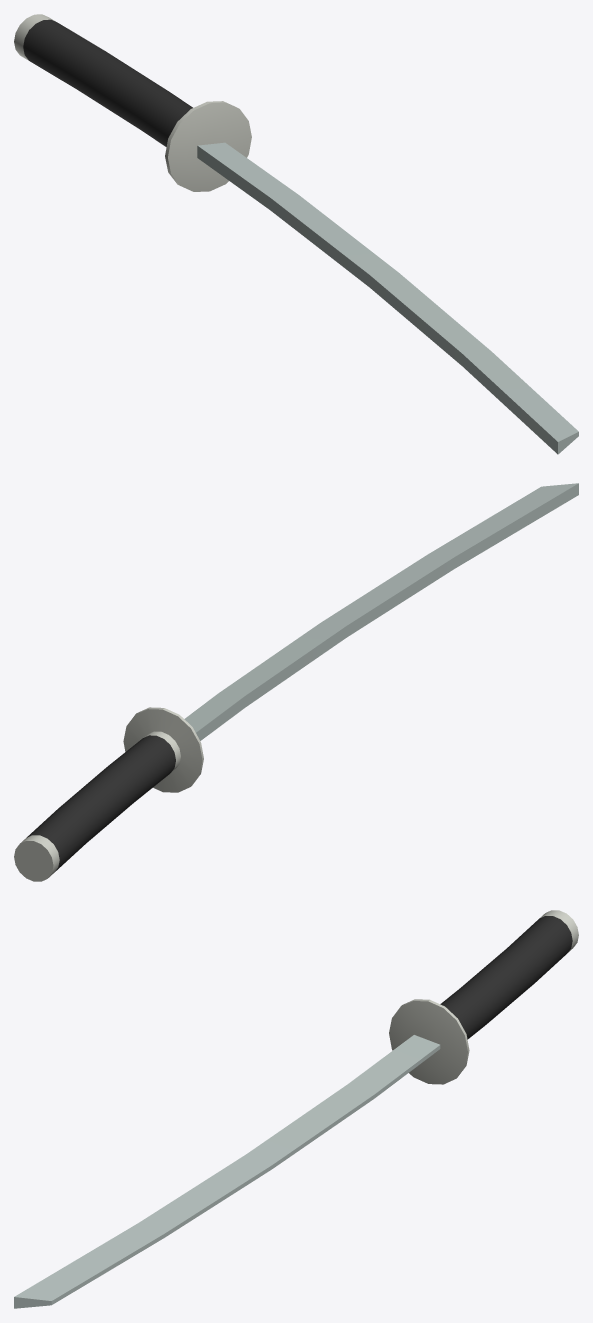
Rendered from Katana.fbx.
The picture shows the model from 3 angles, top to bottom: view 1: azimuth 30°, elevation 25°; view 2: azimuth 150°, elevation 25°; view 3: azimuth 330°, elevation 25°; orthographic projection. The views are drawn at different scales.
Visible parts, largest first — view 1: Katana; view 2: Katana; view 3: Katana.
Boxes of the visible parts, x1,y1,x2,y2 form: Katana: (14,14,578,454); Katana: (14,483,578,881); Katana: (14,910,578,1308).
Size of the model in its own units: 0.1824 by 0.1718 by 1.95.
